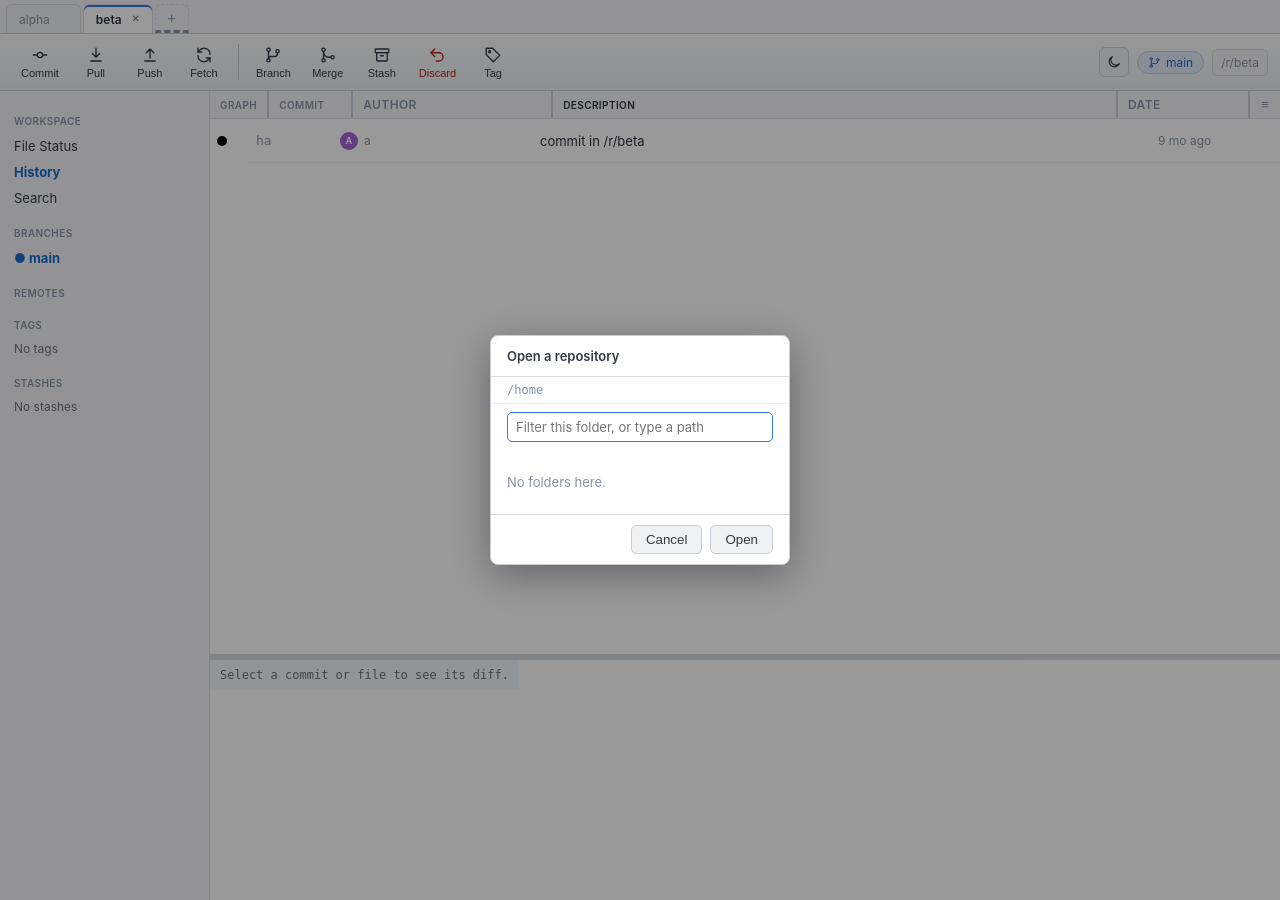
it: App tab shortcuts › obeys tab commands sent from the Electron menu
The image size is (1280, 900).
Expected: the text "alpha" is shown, x1=19 y1=12 x2=50 y2=26
Expected: the text "Open a repository" is shown, x1=491 y1=336 x2=789 y2=377
Click the button "Cancel": (667, 540) x1=631 y1=525 x2=702 y2=554
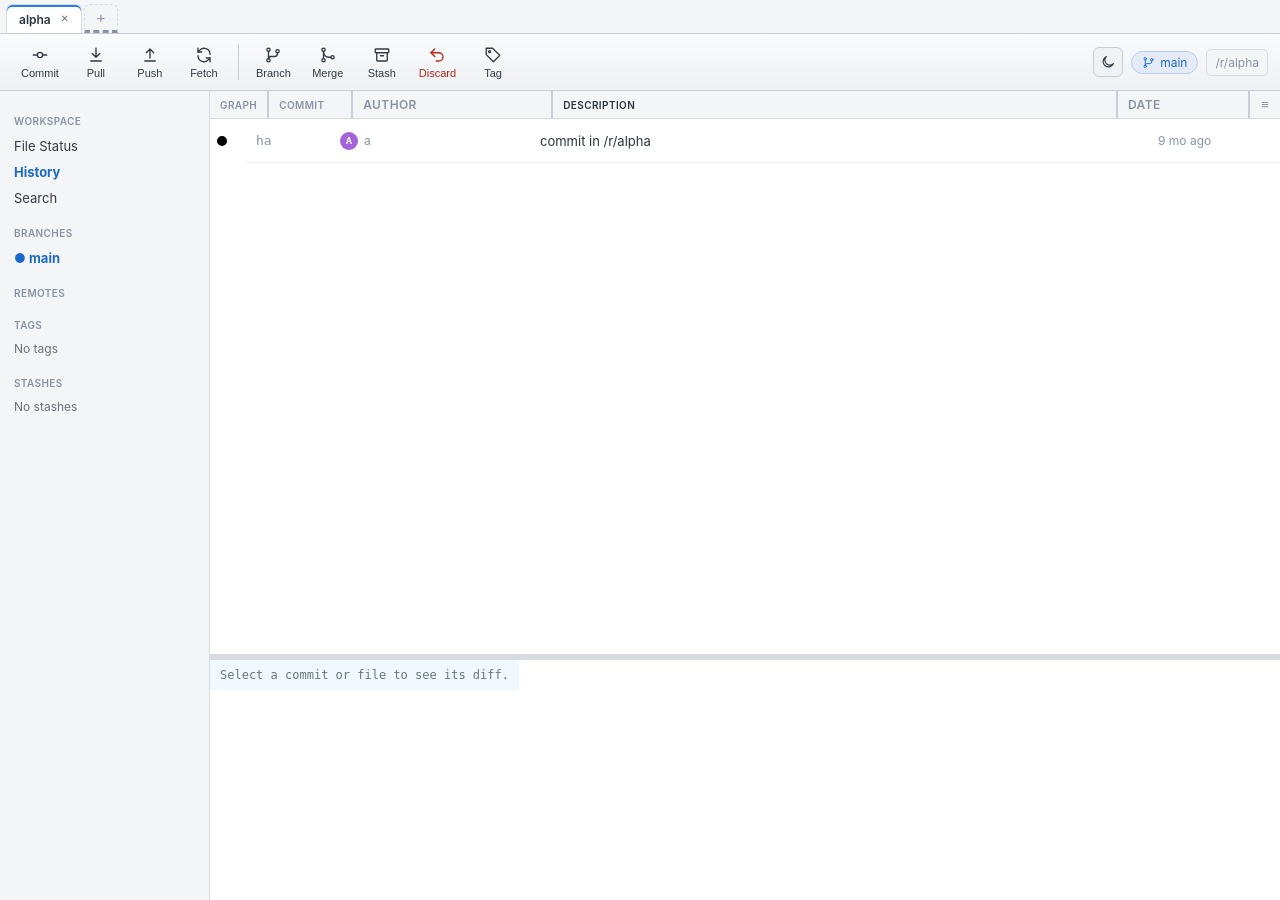
Expected: the text "beta" is gone
